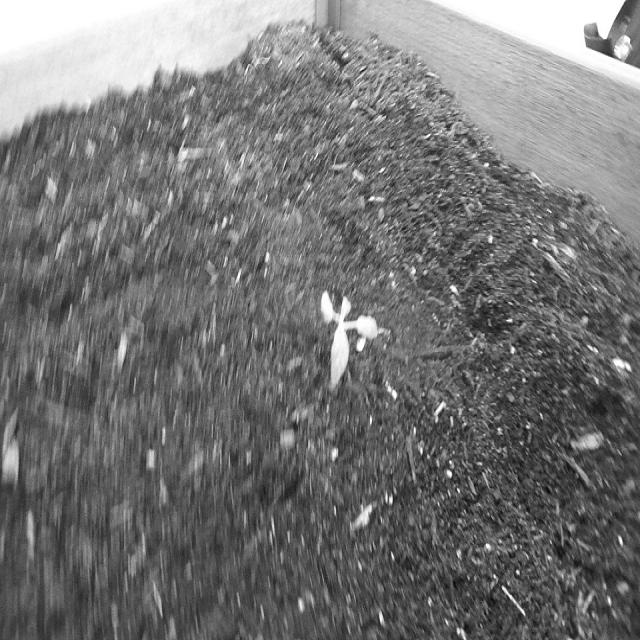Healthy: (309, 257, 391, 413)
